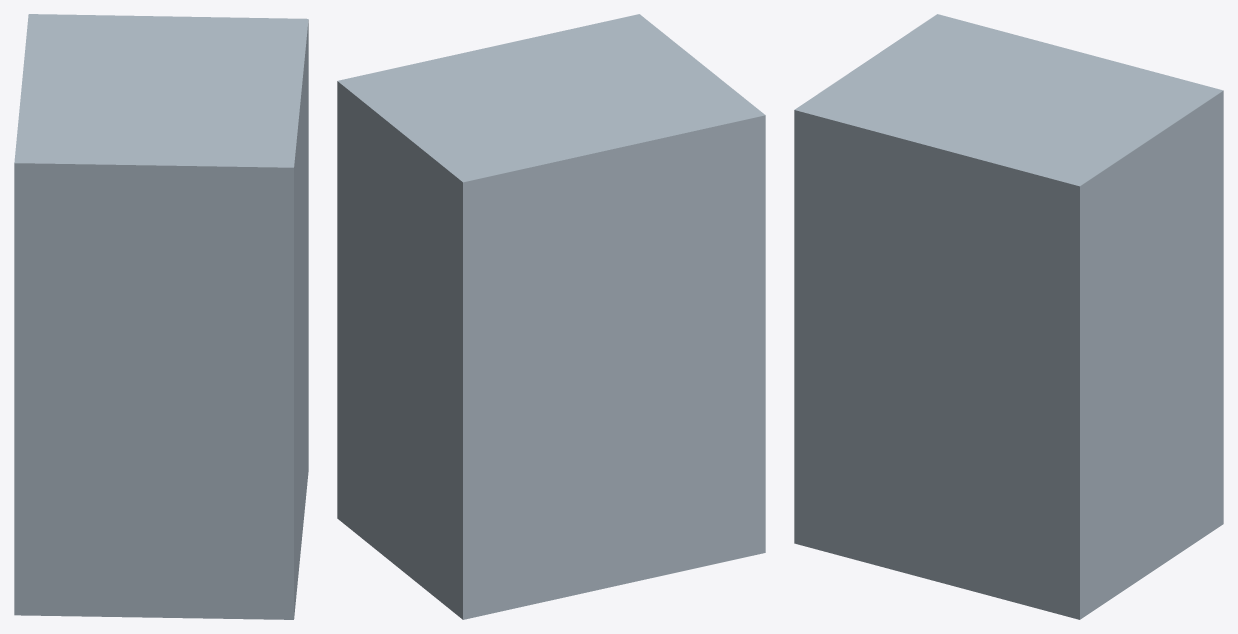
The picture shows the model from 3 angles, left to right: view 1: azimuth 30°, elevation 25°; view 2: azimuth 150°, elevation 25°; view 3: azimuth 270°, elevation 25°; orthographic projection. The views are drawn at different scales.
Size of what is drawn, in the model's own units: 6.82 by 8 by 7.18.
